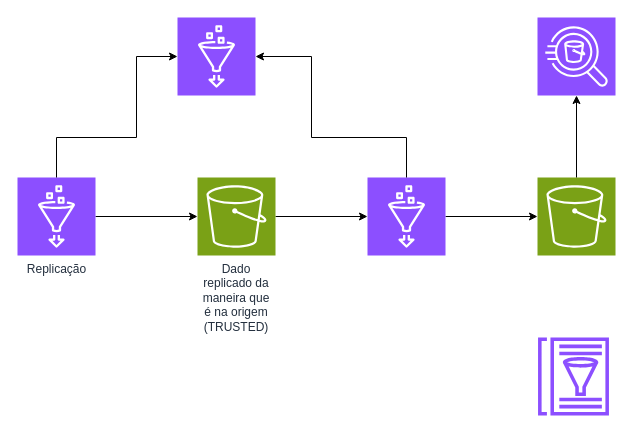
Image size: 633x433. Some labels were removed from this diagram. Each missing label, with the centre of its shape:
Agregação: the point at 406,216
Governança: the point at 216,56
